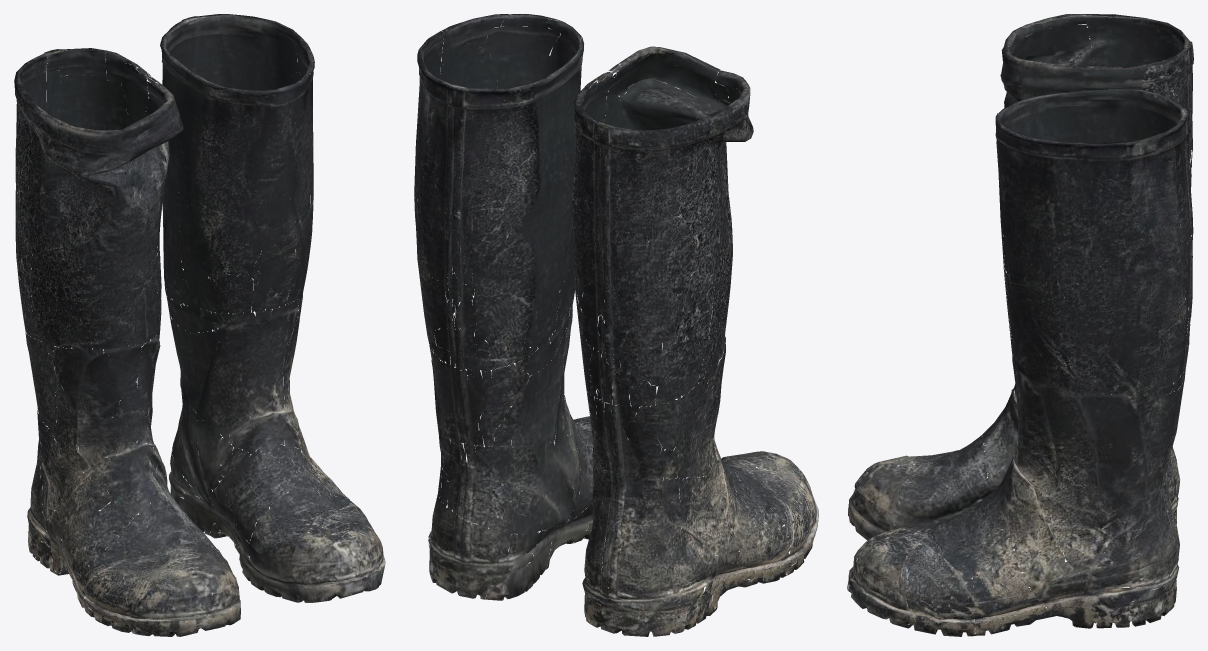
The model's file is boots_prop.glb.
3 views of the same model, side by side, from view 1: azimuth 30°, elevation 25°; view 2: azimuth 150°, elevation 25°; view 3: azimuth 270°, elevation 25° (orthographic). The views are drawn at different scales.
Visible parts, largest first — view 1: prop_boots; view 2: prop_boots; view 3: prop_boots.
Part boxes in pixels (bbox=[...]): prop_boots: bbox=[14, 14, 385, 636]; prop_boots: bbox=[414, 14, 818, 636]; prop_boots: bbox=[847, 14, 1193, 636].
Size of the model in its own units: 0.5928 by 0.9806 by 0.6217.
1 material, 1 textured.
